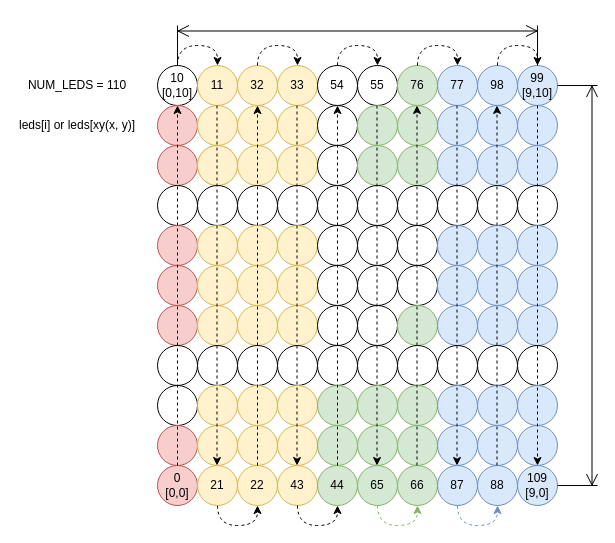
Some shapes in this 615 by 543 pixel diagram are drawn without their labels. The shapes that lost their labels are listed below. From the top down, each one's centre as x and y in pixels, then its label:
At point 357,45: "WIDTH = 10".
At point 577,285: "HEIGHT = 11".
